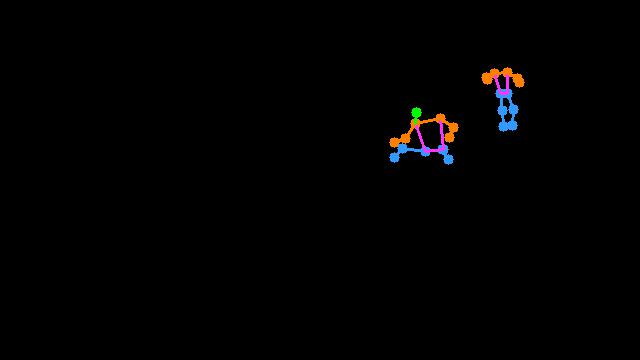normal: (377, 101, 467, 172), (476, 37, 532, 146)
